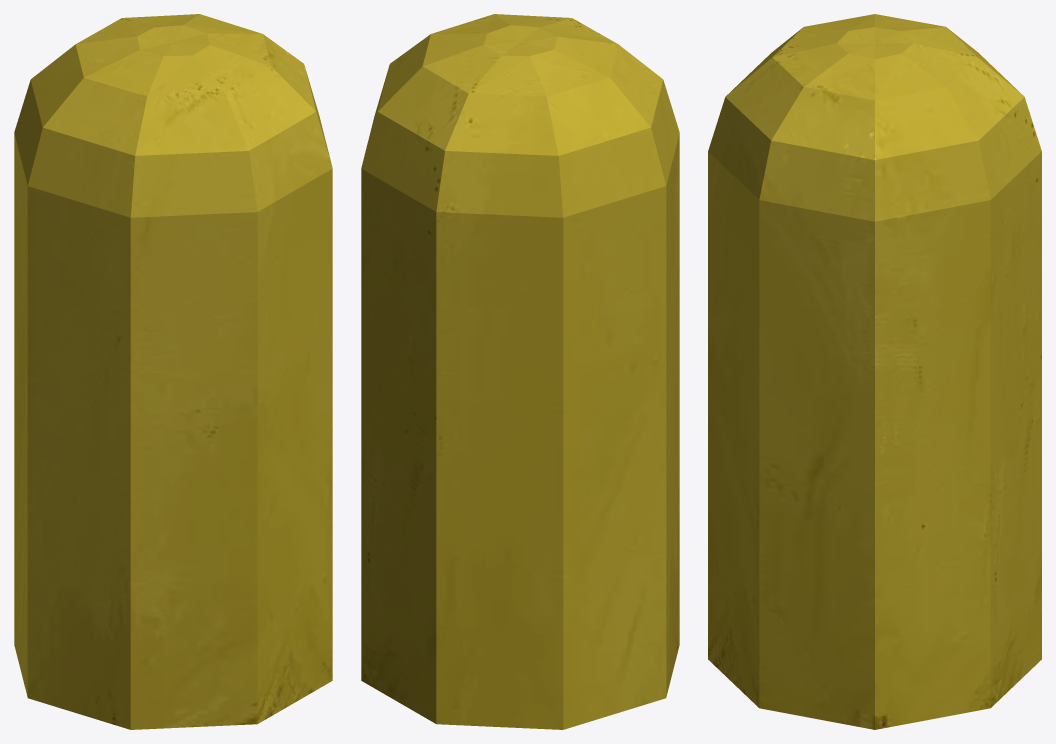
Rendered from strProp_35.glb.
3 renders of one model, left to right at view 1: azimuth 30°, elevation 25°; view 2: azimuth 150°, elevation 25°; view 3: azimuth 270°, elevation 25°, orthographic.
Visible parts, largest first — view 1: geometry_0; view 2: geometry_0; view 3: geometry_0.
Boxes of the visible parts, bbox=[...] form: geometry_0: bbox=[14, 14, 332, 729]; geometry_0: bbox=[361, 14, 679, 729]; geometry_0: bbox=[708, 14, 1041, 729].
Size of the model in its own units: 0.3046 by 0.6214 by 0.3046.
Materials: 1 (1 with a texture image).
